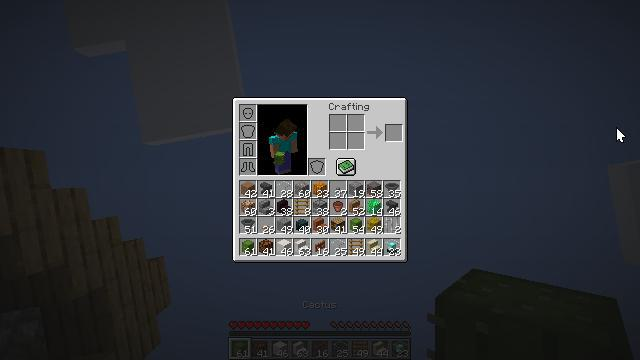cursor: (616, 127, 626, 143)
